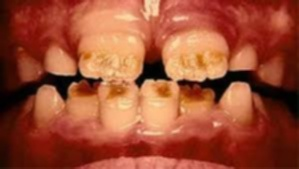Tooth Discoloration: (90, 47, 142, 81), (170, 51, 226, 78), (177, 83, 213, 103), (66, 79, 100, 98), (103, 84, 126, 104), (153, 80, 171, 98), (79, 50, 94, 62)
